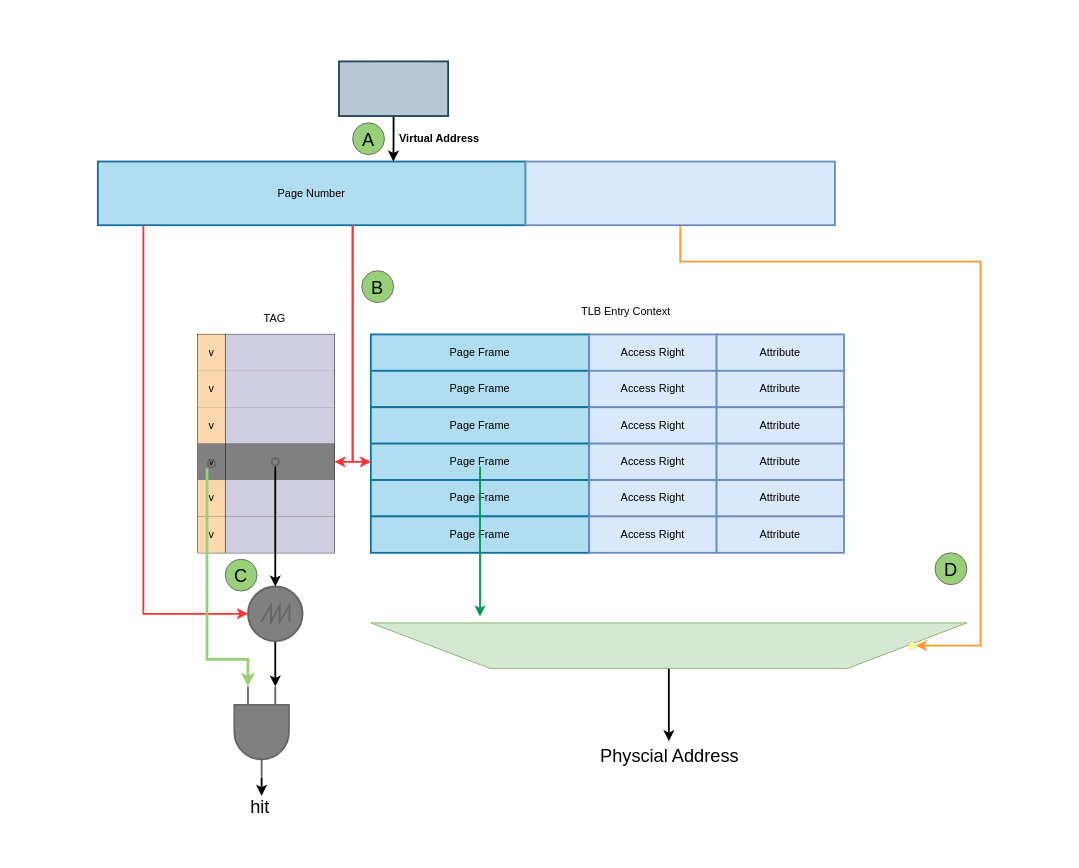
The diagram is 1079 pixels wide and 868 high, and some of its shapes have lost their labels. The shapes that lost their labels are listed below. From the top down, each one's box as (x1, y1, x2, y2) in pixels, then its label:
(338, 60, 449, 116): CPU
(524, 160, 835, 226): OFFSET
